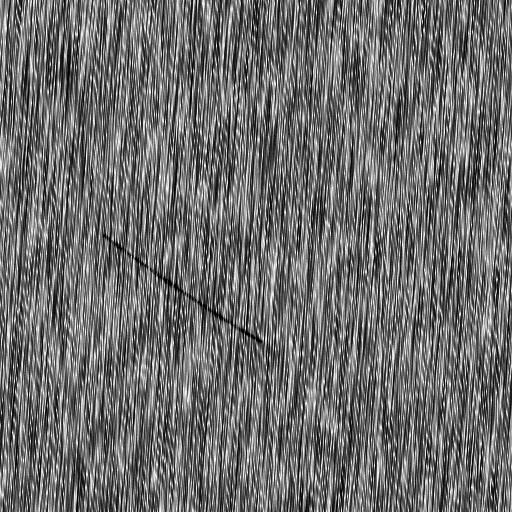DefectTypeC: (101, 233, 270, 342)
